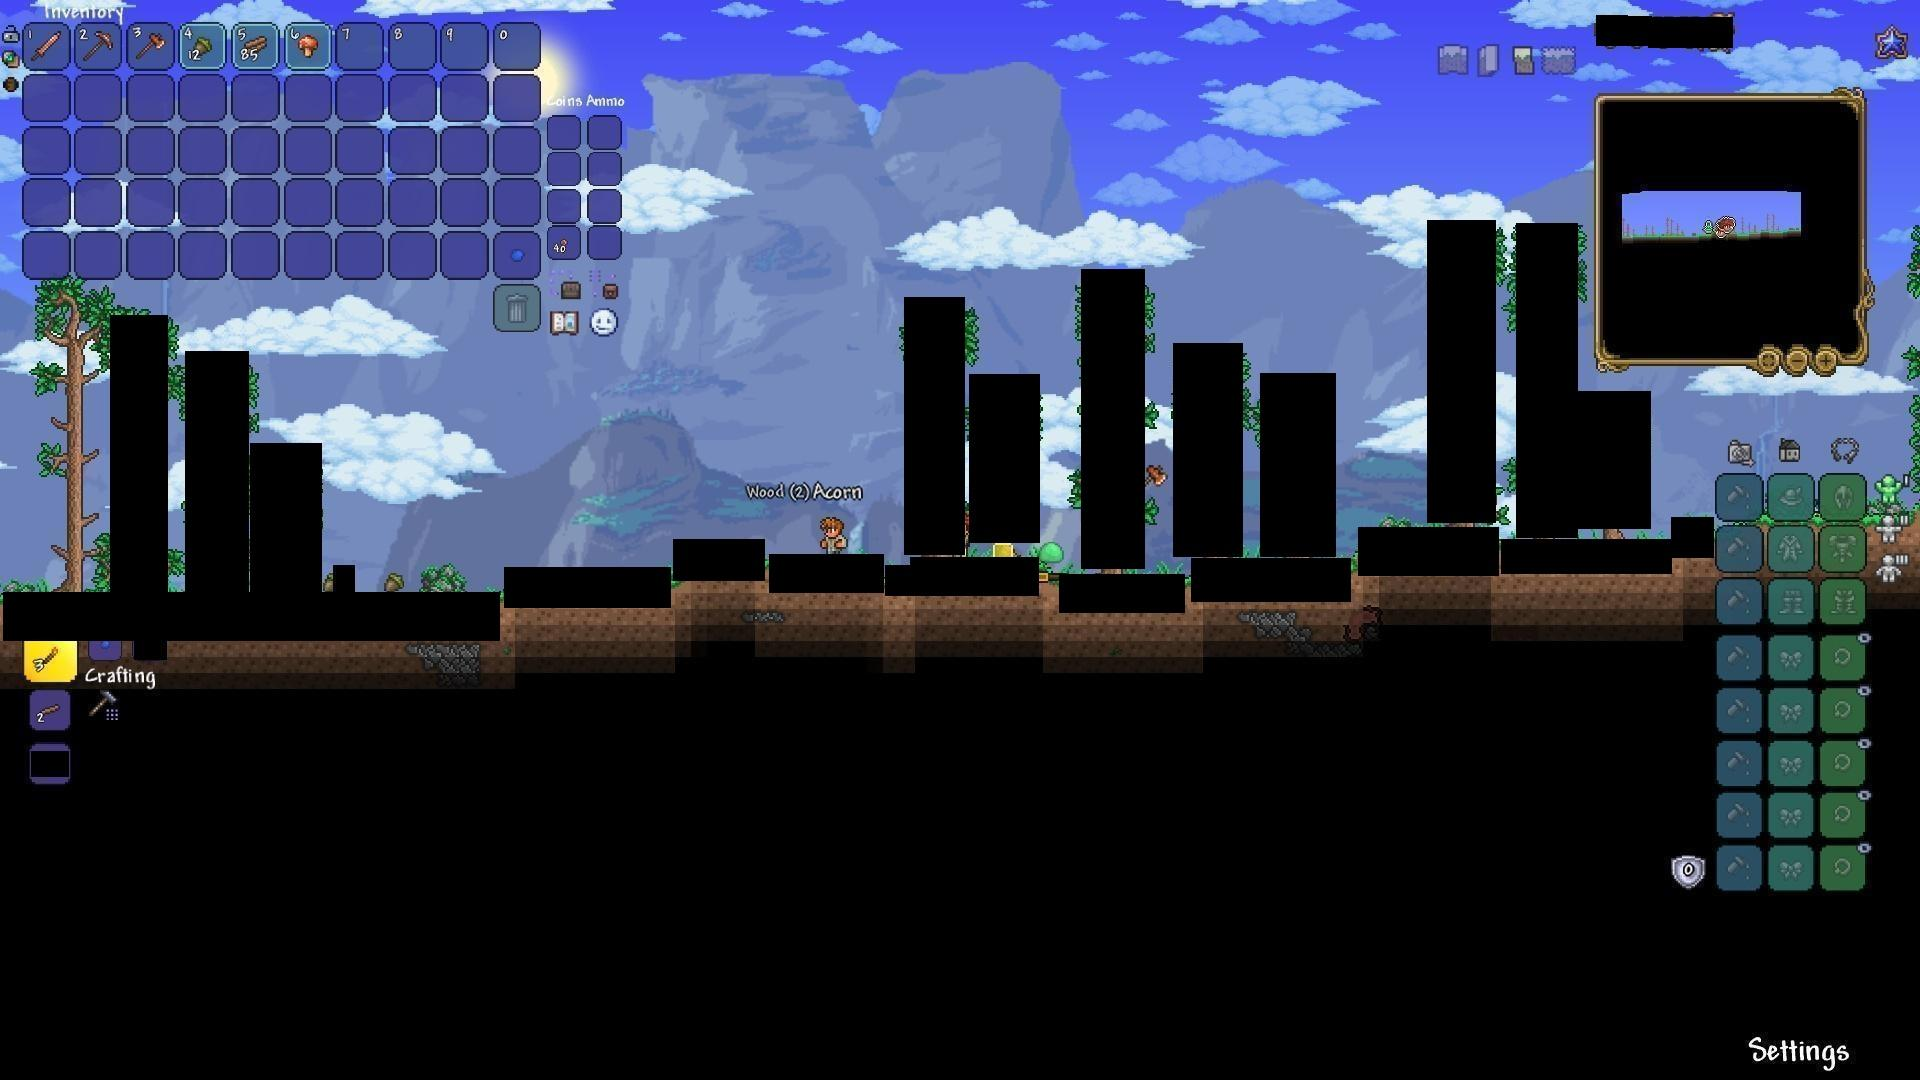slime: (1040, 541, 1065, 568)
tree: (32, 280, 96, 588)
wood: (237, 26, 268, 58)
